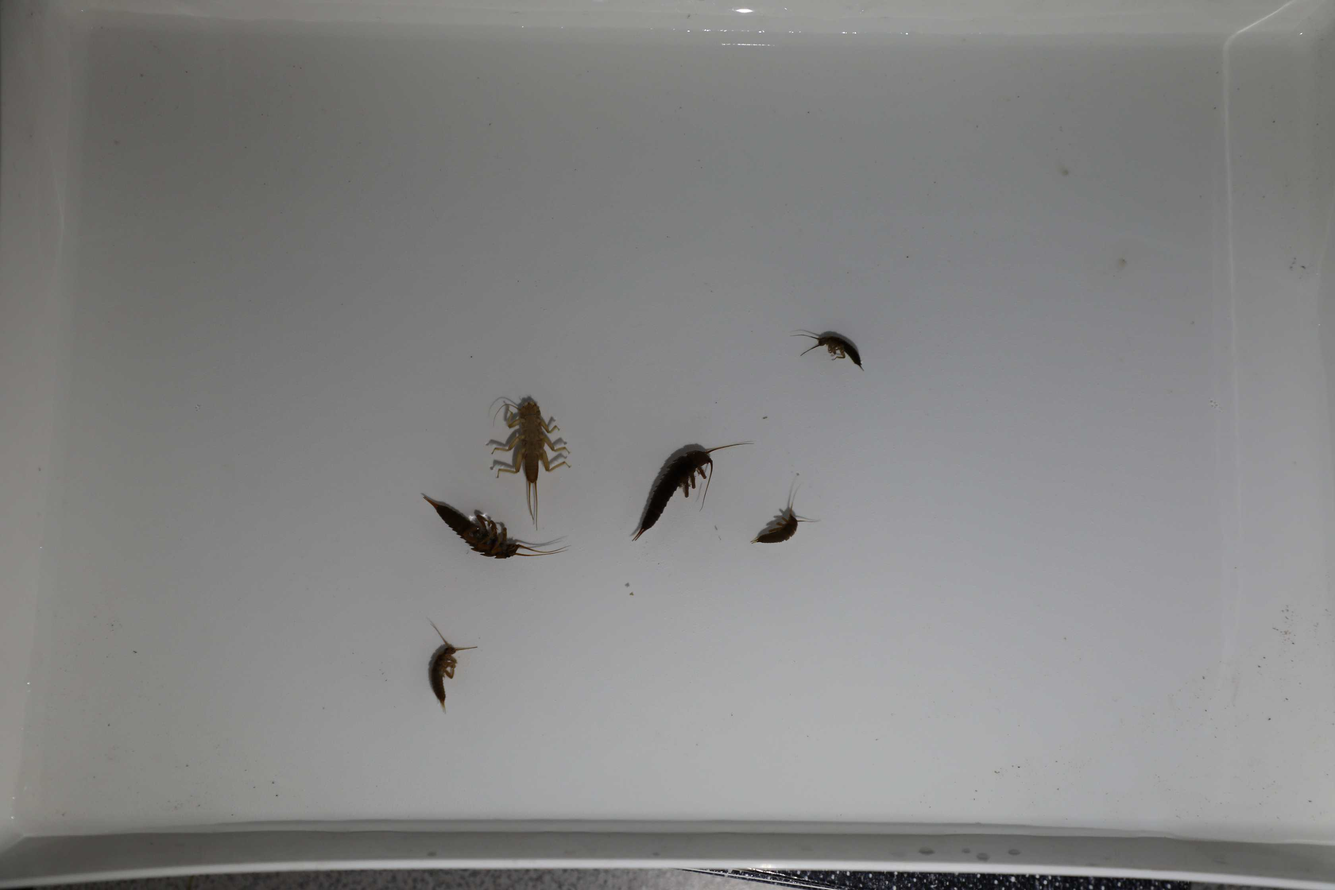Stonefly: (631, 434, 750, 545), (485, 385, 566, 522), (416, 492, 565, 561), (413, 613, 477, 712), (784, 327, 865, 378), (753, 481, 811, 547)
